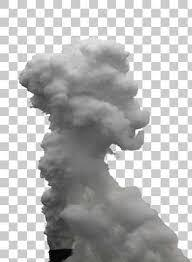smoke: (15, 35, 192, 262)
